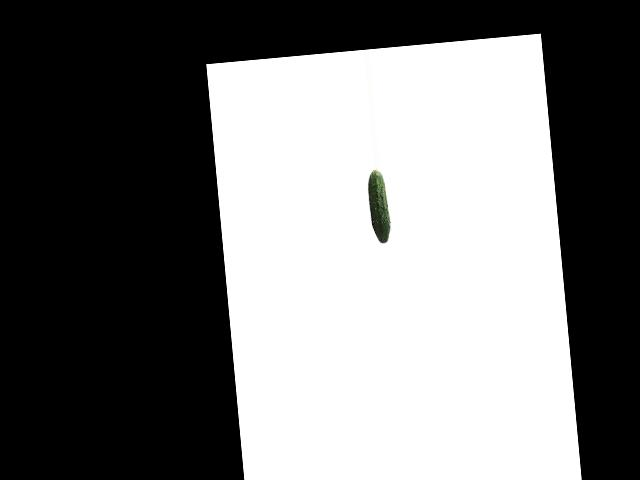cucumber: (366, 169, 391, 244)
